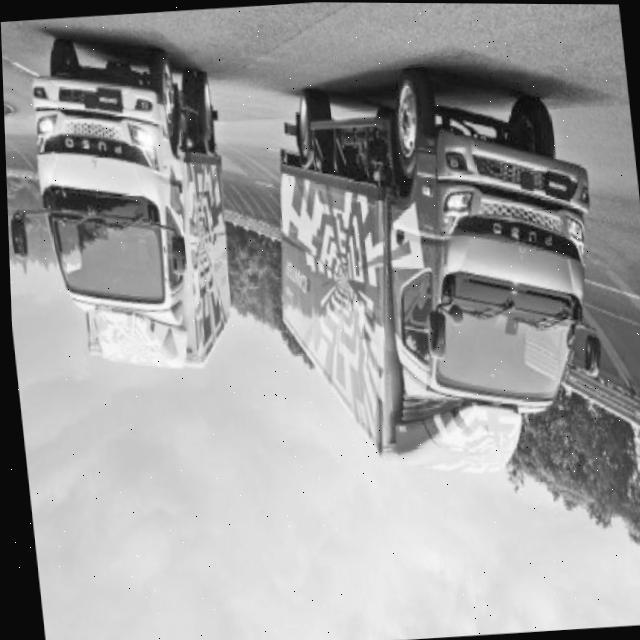truck: (255, 54, 620, 492), (1, 27, 248, 389)
